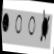correct: (1, 10, 11, 34)
not correct: (37, 8, 52, 47)
